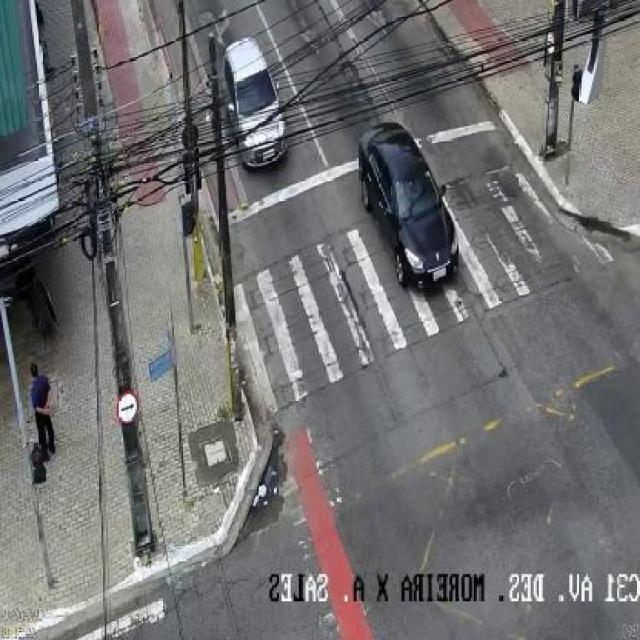Car: (362, 118, 467, 293), (222, 38, 292, 173)
